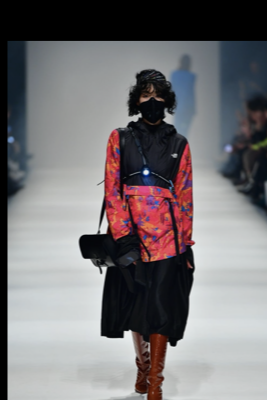with_mask: (139, 87, 166, 121)
